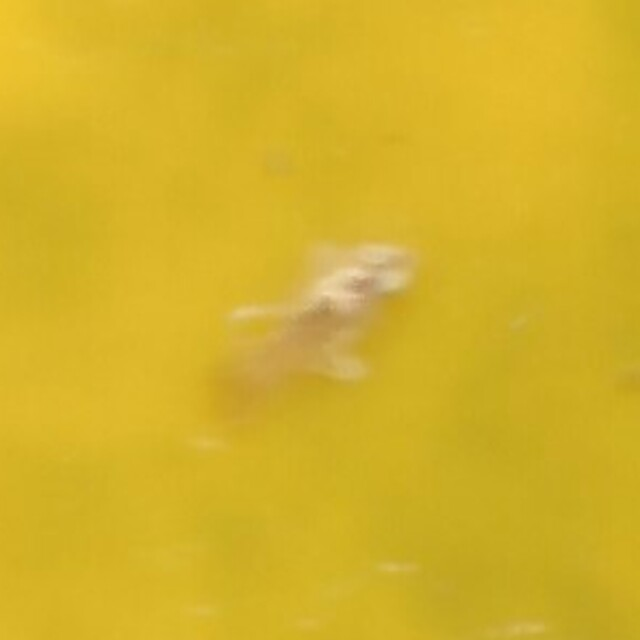Hemiptera: (217, 230, 423, 410)
